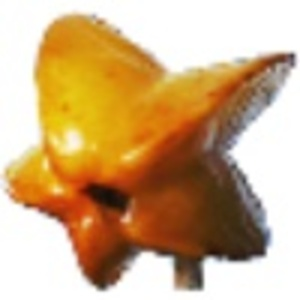carambola: (1, 11, 296, 293)
